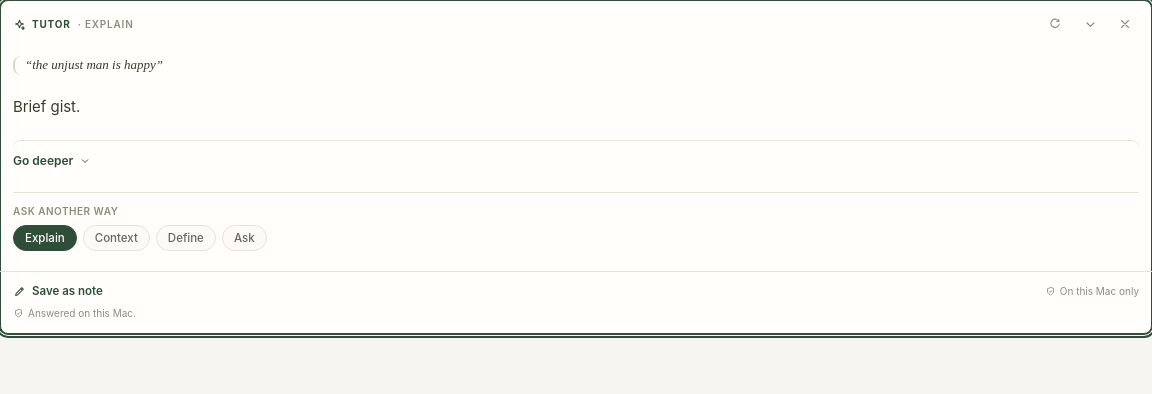
it: MarginTutorCard — brief default + go deeper › a rejected save renders its error IN the save form (current phase), keeps the takeaway, and Save retries (DATA-005)
Click the button "Save as note": coordinates (58, 291) [13,284,103,298]
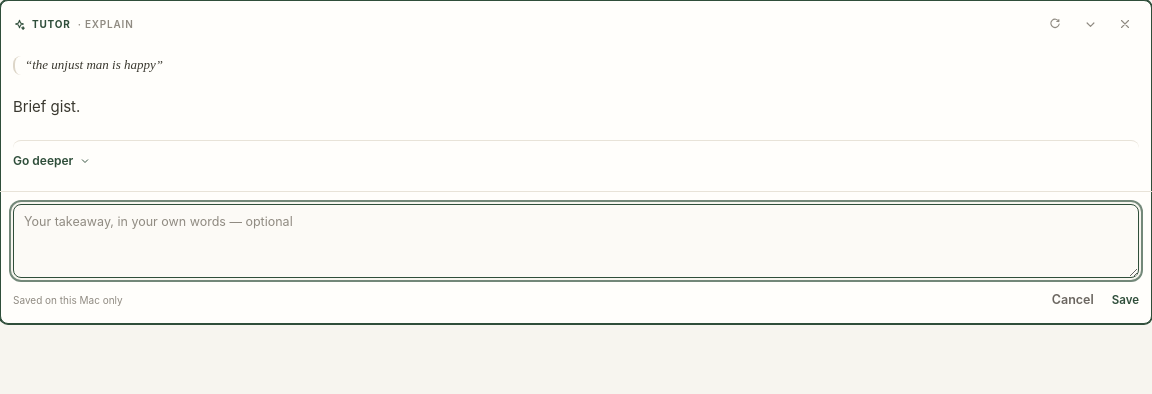
In the text box with placeholder "Your takeaway, in your own words — optional": coordinates (576, 241) [13,204,1139,278], type "my words"
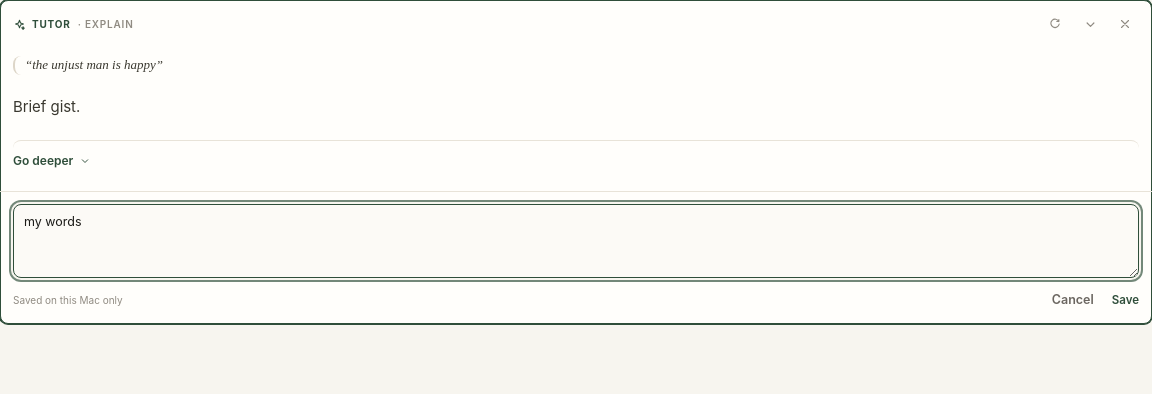
Click the button "Save": coordinates (1125, 300) [1112,293,1139,307]
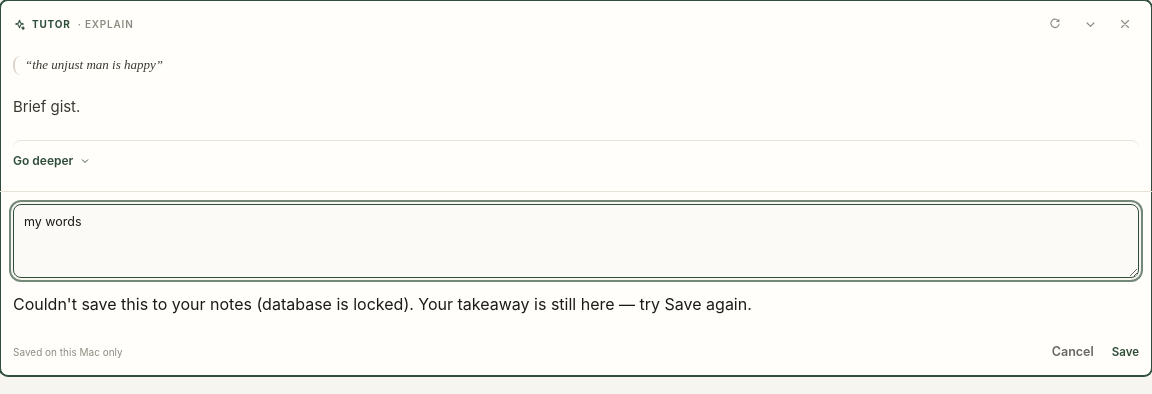
Now the message shows "Couldn't save this to your notes", box [13,294,262,314]
Click the button "Save": coordinates (1125, 352) [1112,345,1139,359]
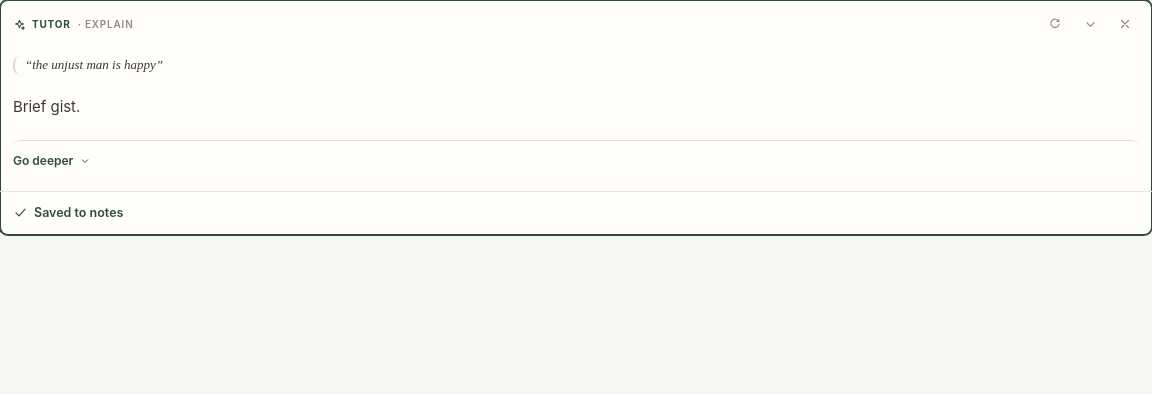
Now the text "Saved to notes" is shown, box [13,205,123,220]
